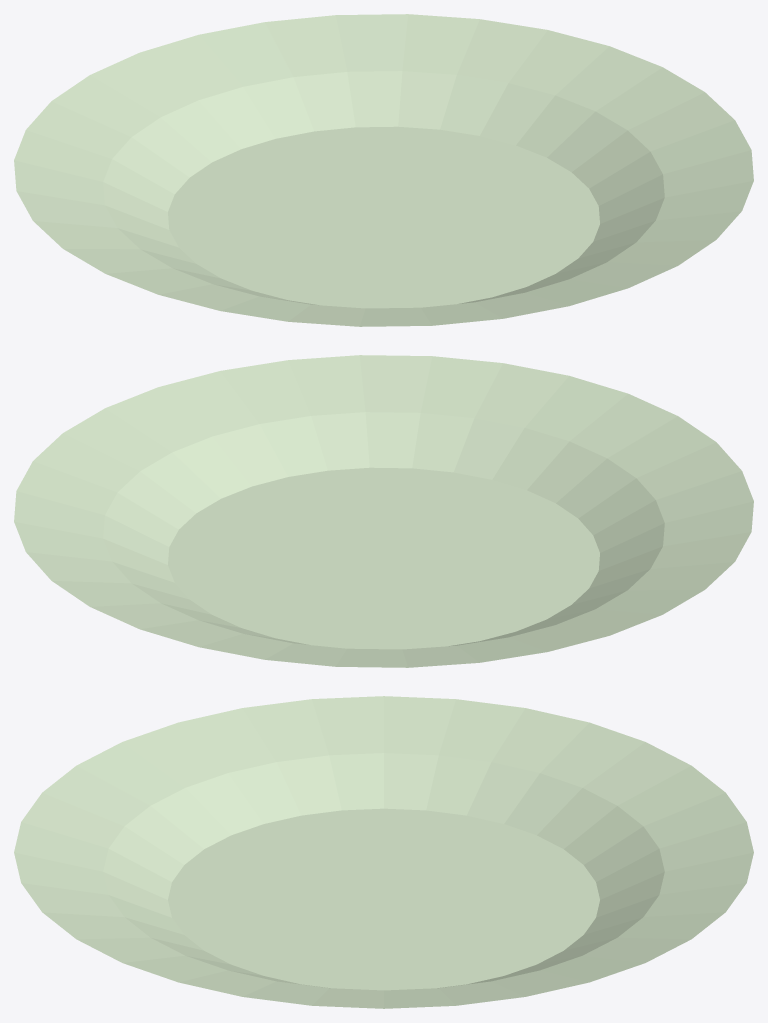
Rendered from PLATE.fbx.
3 renders of one model, top to bottom at view 1: azimuth 30°, elevation 25°; view 2: azimuth 150°, elevation 25°; view 3: azimuth 270°, elevation 25°, orthographic.
Parts seen in each view (by area): view 1: Circle; view 2: Circle; view 3: Circle.
Part boxes in pixels (x1,y1,x2,y2): Circle: [14, 14, 753, 326]; Circle: [14, 355, 753, 667]; Circle: [14, 696, 753, 1008].
Bounding box in the file's own units: 178 × 12.58 × 178.
